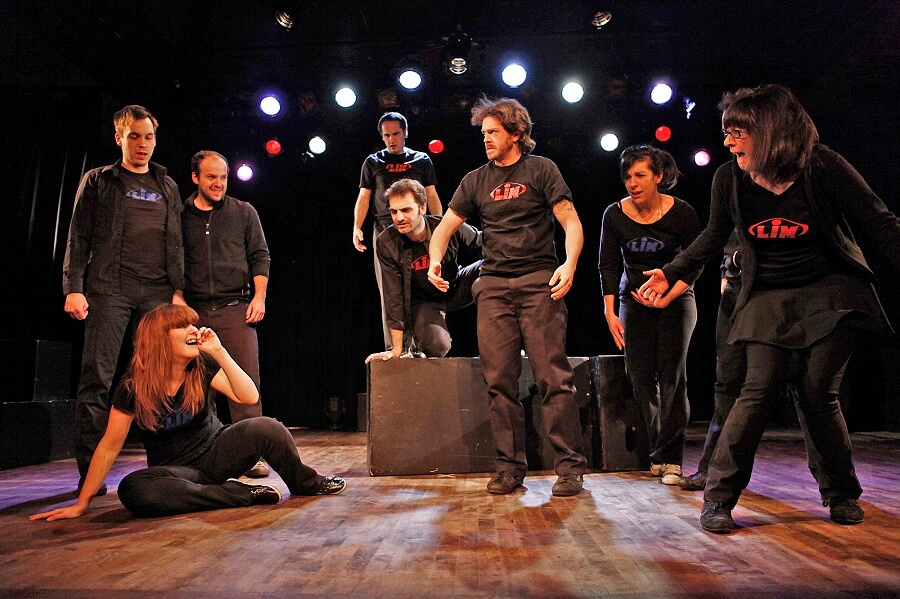bad: (617, 162, 653, 198), (121, 126, 157, 162), (197, 162, 233, 198), (381, 198, 417, 234), (469, 118, 505, 154)
